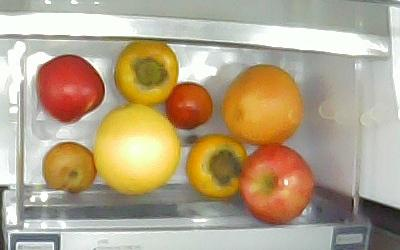apple: (240, 144, 315, 227), (37, 54, 105, 124)
grapefruit: (93, 104, 180, 195), (223, 65, 303, 146)
persimmon: (115, 39, 178, 104), (186, 134, 247, 199)
prune: (43, 142, 97, 194), (165, 82, 212, 128)
